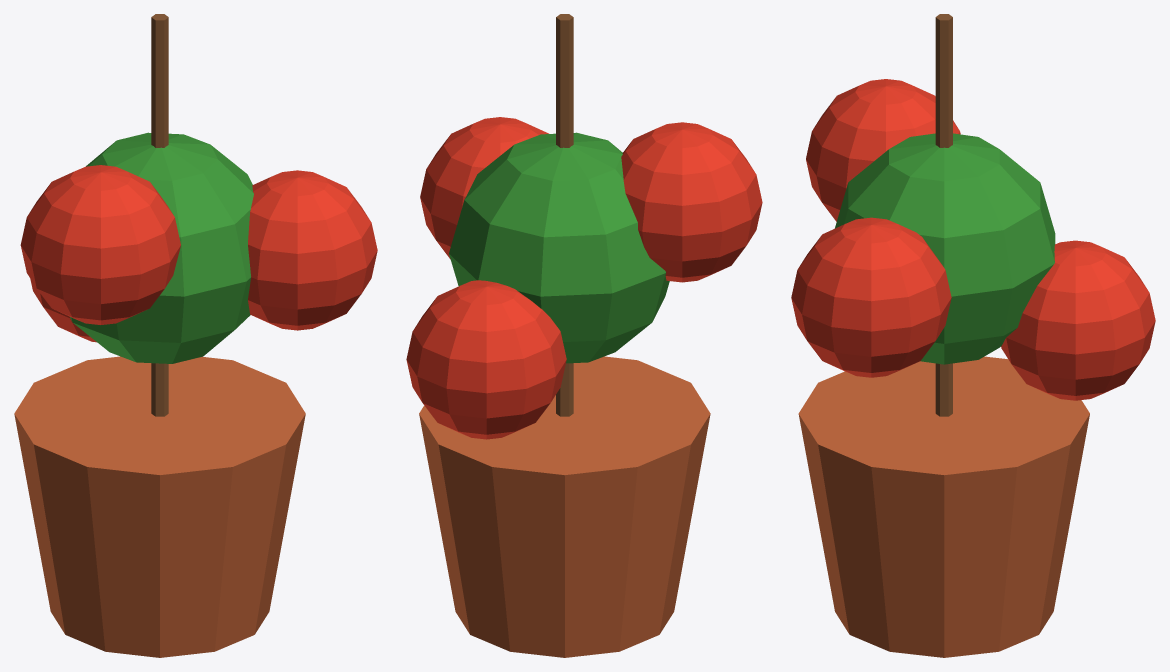
The model's file is giant_tomato_plant.glb.
3 renders of one model, left to right at view 1: azimuth 30°, elevation 25°; view 2: azimuth 150°, elevation 25°; view 3: azimuth 270°, elevation 25°, orthographic.
Visible parts, largest first — view 1: pot_pot_terracotta, tomato_giant_tomato, bush_plant_leaf, stake_tomato_stake; view 2: pot_pot_terracotta, tomato_giant_tomato, bush_plant_leaf, stake_tomato_stake; view 3: pot_pot_terracotta, tomato_giant_tomato, bush_plant_leaf, stake_tomato_stake.
Boxes of the visible parts, x1=… form: pot_pot_terracotta: x1=14, y1=356, x2=305, y2=657; tomato_giant_tomato: x1=20, y1=165, x2=377, y2=342; bush_plant_leaf: x1=70, y1=132, x2=253, y2=363; stake_tomato_stake: x1=151, y1=14, x2=168, y2=416; pot_pot_terracotta: x1=419, y1=356, x2=710, y2=657; tomato_giant_tomato: x1=406, y1=117, x2=762, y2=439; bush_plant_leaf: x1=449, y1=132, x2=669, y2=363; stake_tomato_stake: x1=556, y1=14, x2=573, y2=416; pot_pot_terracotta: x1=798, y1=356, x2=1089, y2=657; tomato_giant_tomato: x1=791, y1=79, x2=1155, y2=400; bush_plant_leaf: x1=835, y1=133, x2=1055, y2=364; stake_tomato_stake: x1=935, y1=14, x2=952, y2=416.
Bounding box in the file's own units: 0.52 × 0.9 × 0.5.
